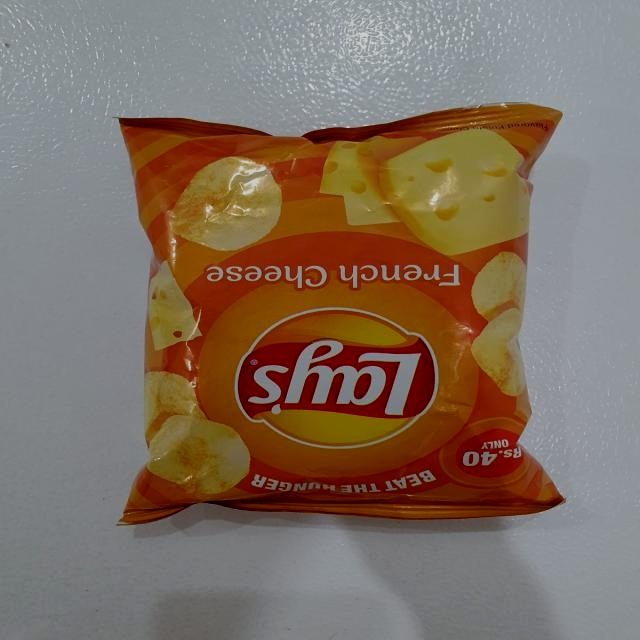lays-small: (152, 127, 517, 505)
